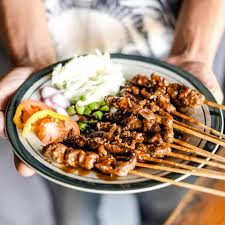sate: (11, 53, 225, 203)
